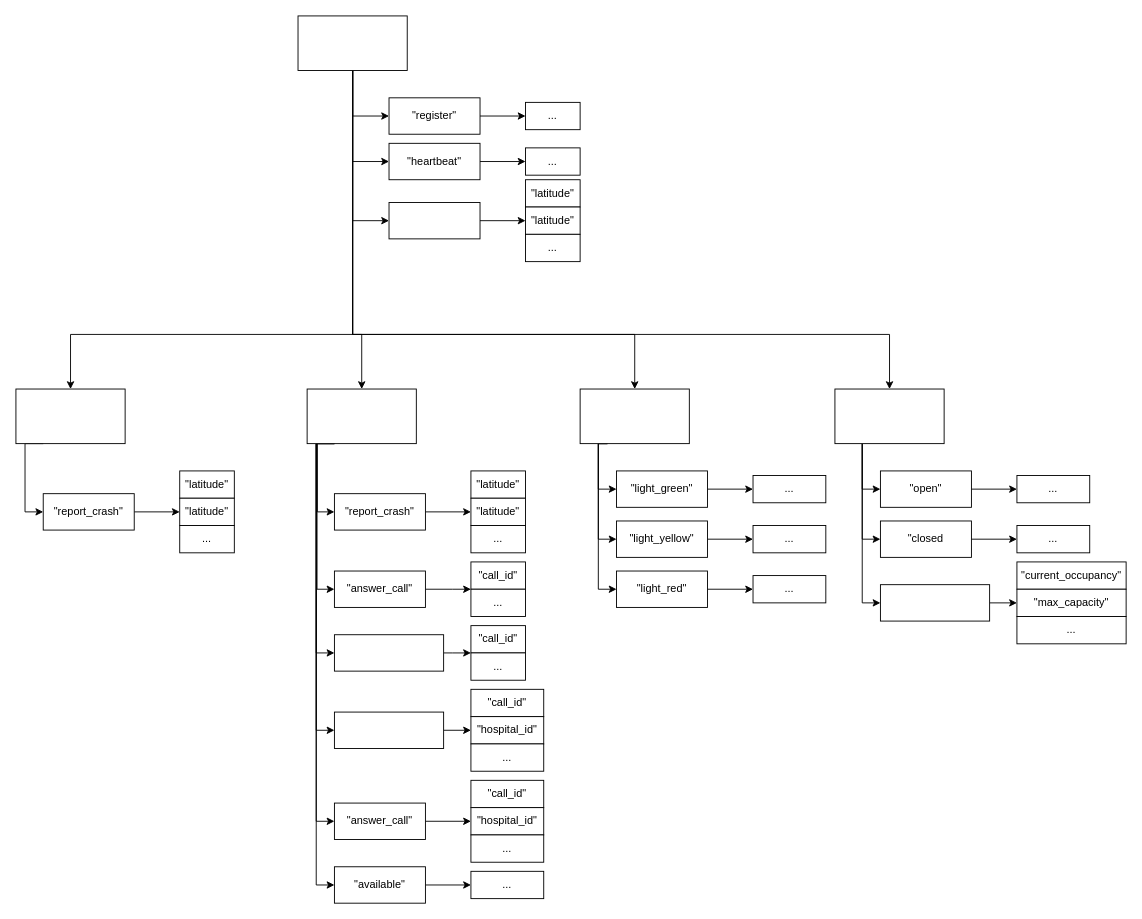
The diagram is 1142 pixels wide and 919 high, and some of its shapes have lost their labels. The box of each missing label's shape, as (x1, y1, x2, y2) in pixels:
"arrived_at_scene": (334, 634, 444, 671)
"location_update": (388, 202, 480, 239)
"occupancy_update": (880, 584, 990, 621)
"transporting_patient": (334, 711, 444, 748)
Ambulance: (306, 388, 416, 444)
Car: (15, 388, 125, 444)
Client: (297, 15, 407, 71)
Hospital: (834, 388, 944, 444)
TrafficLight: (579, 388, 689, 444)
